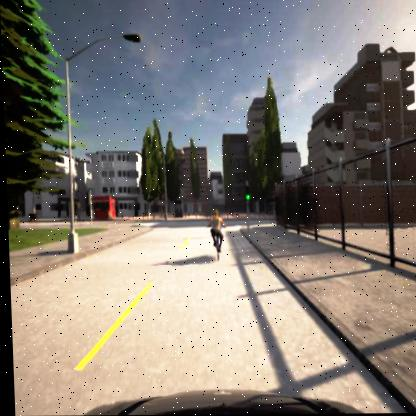bike: (206, 211, 225, 262)
